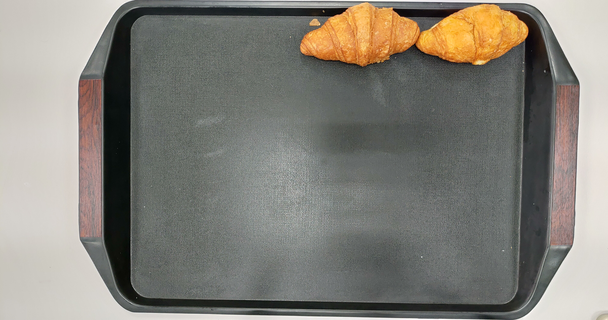Croissant: (300, 2, 419, 66), (416, 4, 528, 65)
